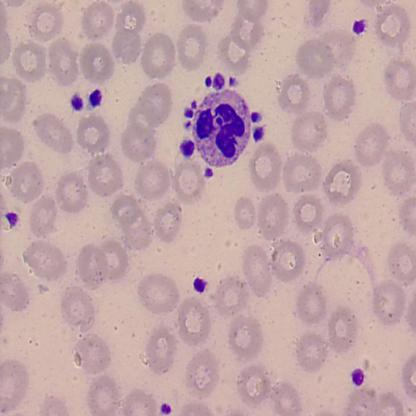Segmented neutrophil: (178, 71, 268, 181)
